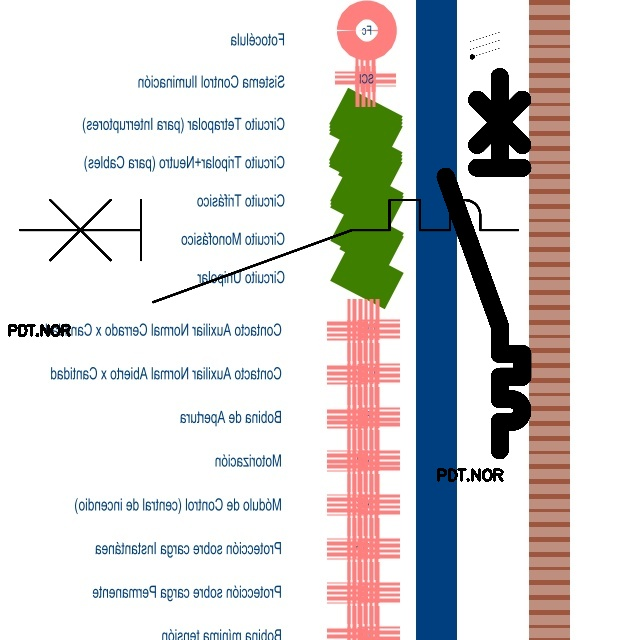interruptor_termomagnetico: (7, 187, 531, 315), (436, 67, 532, 460)
